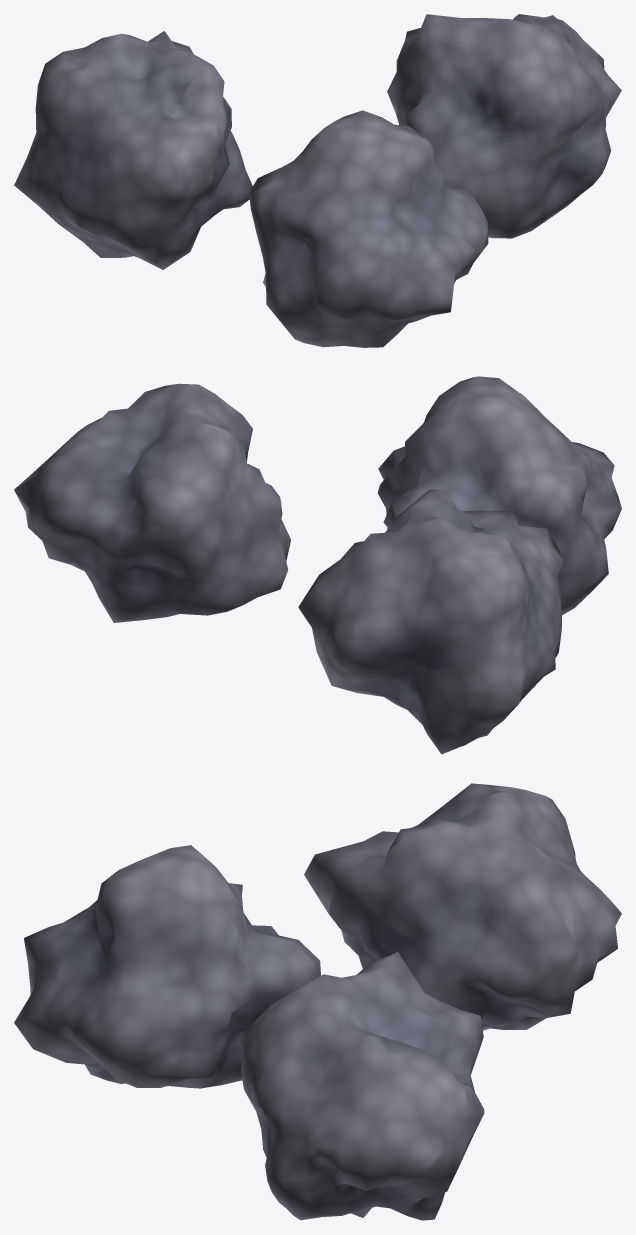
Rendered from Mess_Lint.fbx.
3 views of the same model, one above another, from view 1: azimuth 30°, elevation 25°; view 2: azimuth 150°, elevation 25°; view 3: azimuth 270°, elevation 25° (orthographic). The views are drawn at different scales.
Parts seen in each view (by area): view 1: Mess_Lint; view 2: Mess_Lint; view 3: Mess_Lint.
Boxes of the visible parts, bbox=[...] form: Mess_Lint: bbox=[14, 14, 621, 347]; Mess_Lint: bbox=[14, 376, 621, 754]; Mess_Lint: bbox=[14, 783, 621, 1220].
Size of the model in its own units: 33.79 by 13.2 by 29.11.
